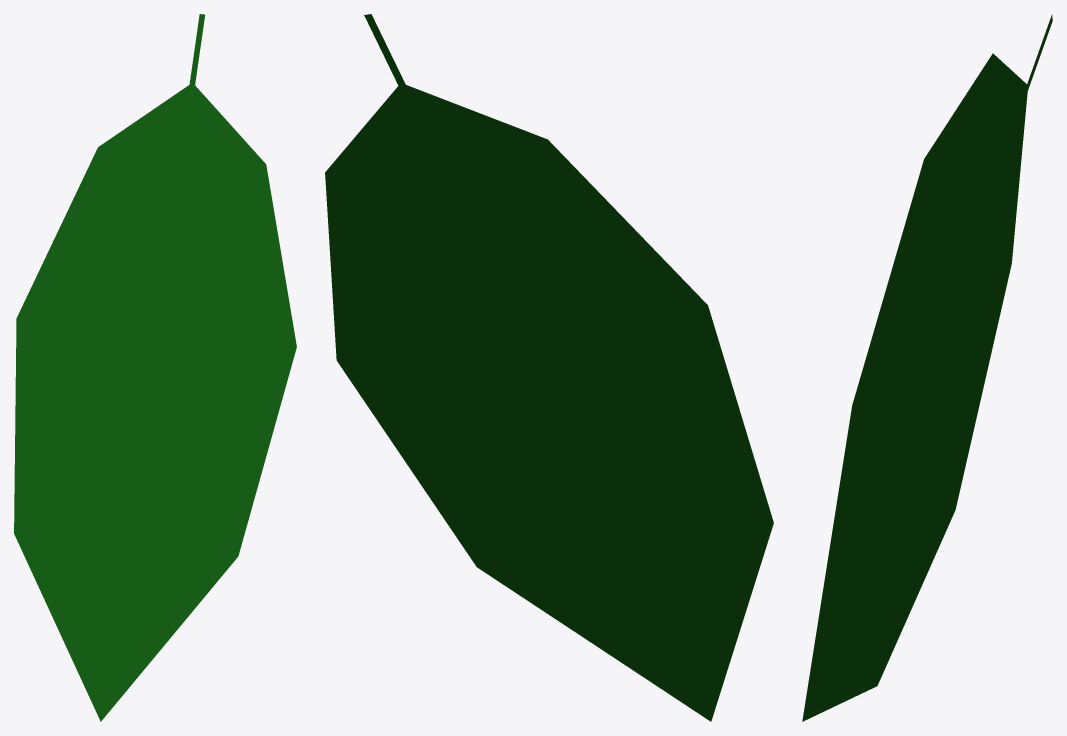
File: Leaves.020.obj
3 views of the same model, side by side, from view 1: azimuth 30°, elevation 25°; view 2: azimuth 150°, elevation 25°; view 3: azimuth 270°, elevation 25° (orthographic). The views are drawn at different scales.
Parts seen in each view (by area): view 1: Leaves.020_leaves.020; view 2: Leaves.020_leaves.020; view 3: Leaves.020_leaves.020.
Part boxes in pixels (x1,y1,x2,y2): Leaves.020_leaves.020: (14, 14, 296, 721); Leaves.020_leaves.020: (325, 14, 773, 721); Leaves.020_leaves.020: (802, 15, 1052, 721).
Size of the model in its own units: 0.0774 by 0.138 by 0.0374.
